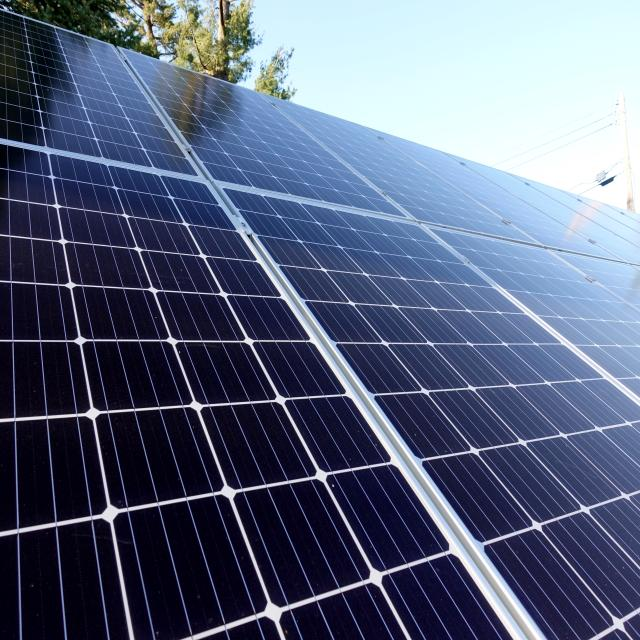crack: (0, 123, 461, 640), (208, 162, 640, 640), (101, 11, 436, 261), (260, 84, 572, 284)
